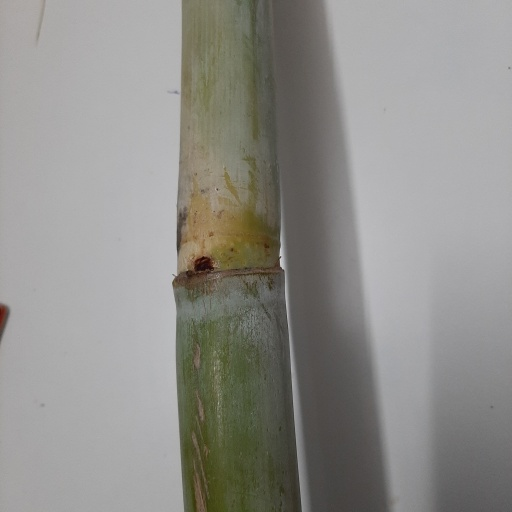Damage_Bud: (191, 256, 213, 271)
